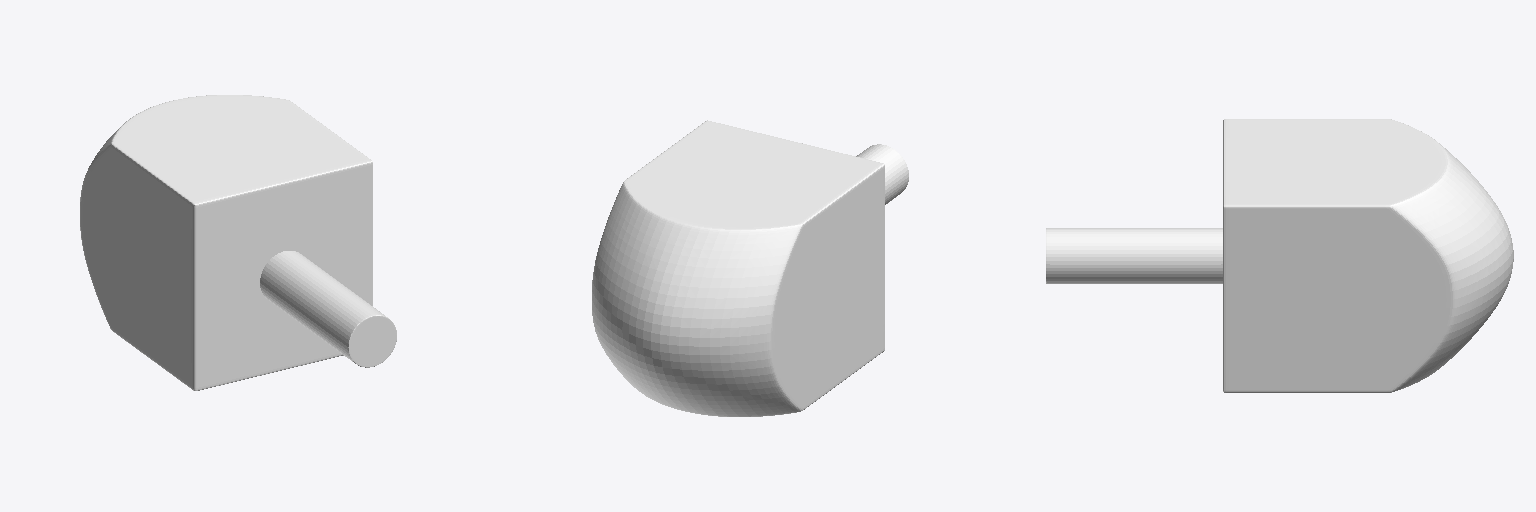
File: 12176_Dreidel_v2_L3.obj
3 renders of one model, left to right at view 1: azimuth 30°, elevation 25°; view 2: azimuth 150°, elevation 25°; view 3: azimuth 270°, elevation 25°, orthographic.
Visible parts, largest first — view 1: Dreidel; view 2: Dreidel; view 3: Dreidel.
Boxes of the visible parts, box(x1,y1,x2,y2) form: Dreidel: box(80, 95, 396, 390); Dreidel: box(592, 120, 908, 416); Dreidel: box(1046, 119, 1513, 392).
Size of the model in its own units: 7.07 by 7.07 by 15.97.